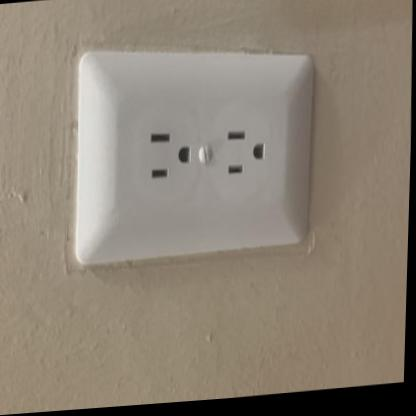OUTLET: (67, 28, 318, 267)
